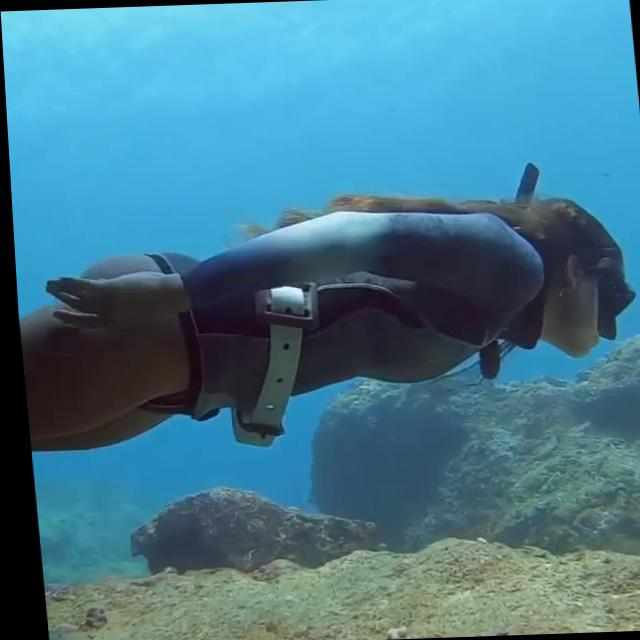human: (6, 132, 640, 475)
